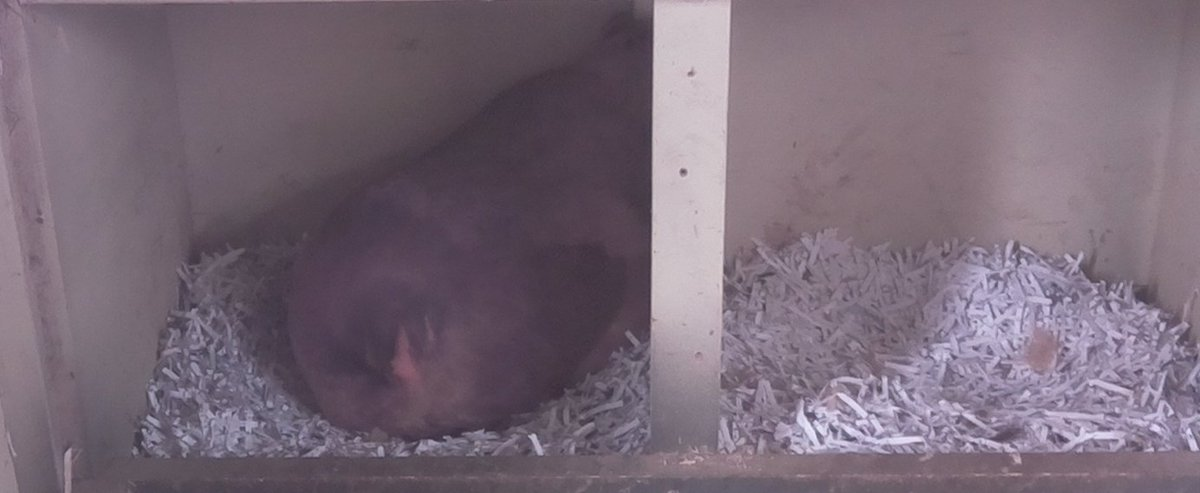hen: (283, 19, 643, 450)
